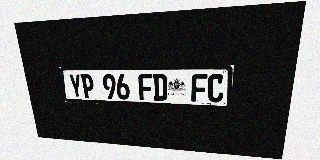6: (115, 74, 130, 100)
9: (102, 74, 117, 99)
C: (207, 74, 224, 103)
D: (152, 74, 167, 101)
F: (191, 74, 207, 102), (138, 74, 153, 100)
P: (80, 74, 95, 98)
Y: (68, 74, 83, 98)
